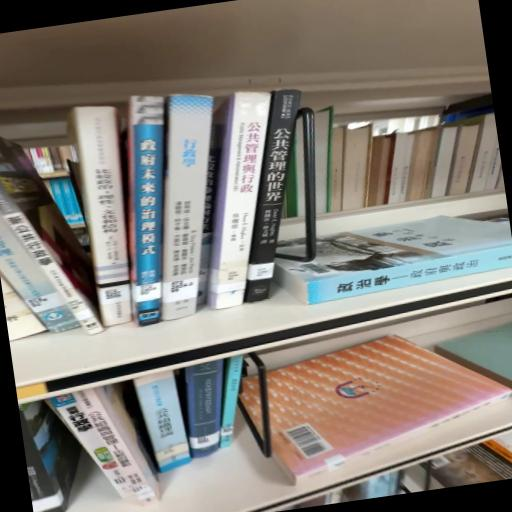flat: (266, 336, 512, 485), (275, 217, 512, 305)
